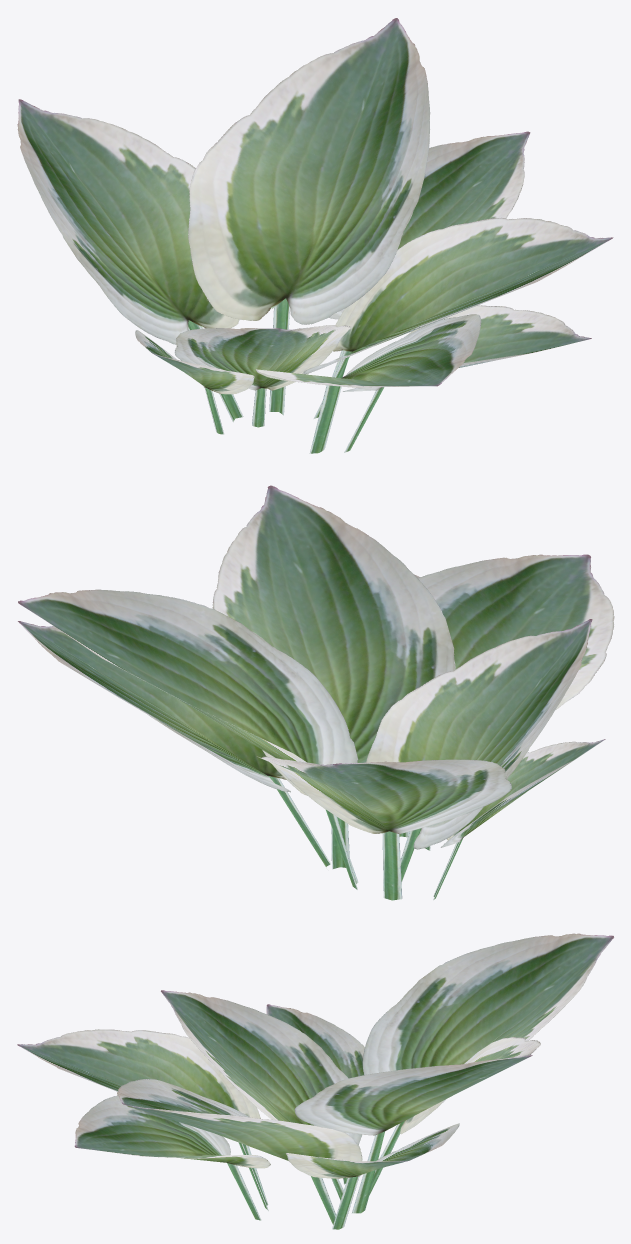
Rendered from plant_small_wg_04I.fbx.
3 views of the same model, one above another, from view 1: azimuth 30°, elevation 25°; view 2: azimuth 150°, elevation 25°; view 3: azimuth 270°, elevation 25° (orthographic). The views are drawn at different scales.
Visible parts, largest first — view 1: plant_small_wg_04I; view 2: plant_small_wg_04I; view 3: plant_small_wg_04I.
Part boxes in pixels (x1,y1,x2,y2): plant_small_wg_04I: (17, 18, 613, 453); plant_small_wg_04I: (18, 485, 614, 900); plant_small_wg_04I: (17, 933, 613, 1229).
Bounding box in the file's own units: 128 × 73.75 × 159.
